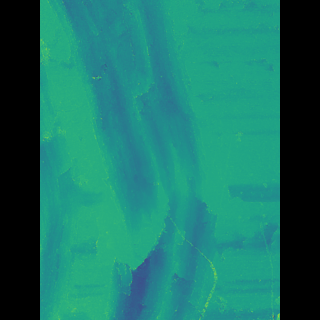Loch: (69, 0, 215, 320)
